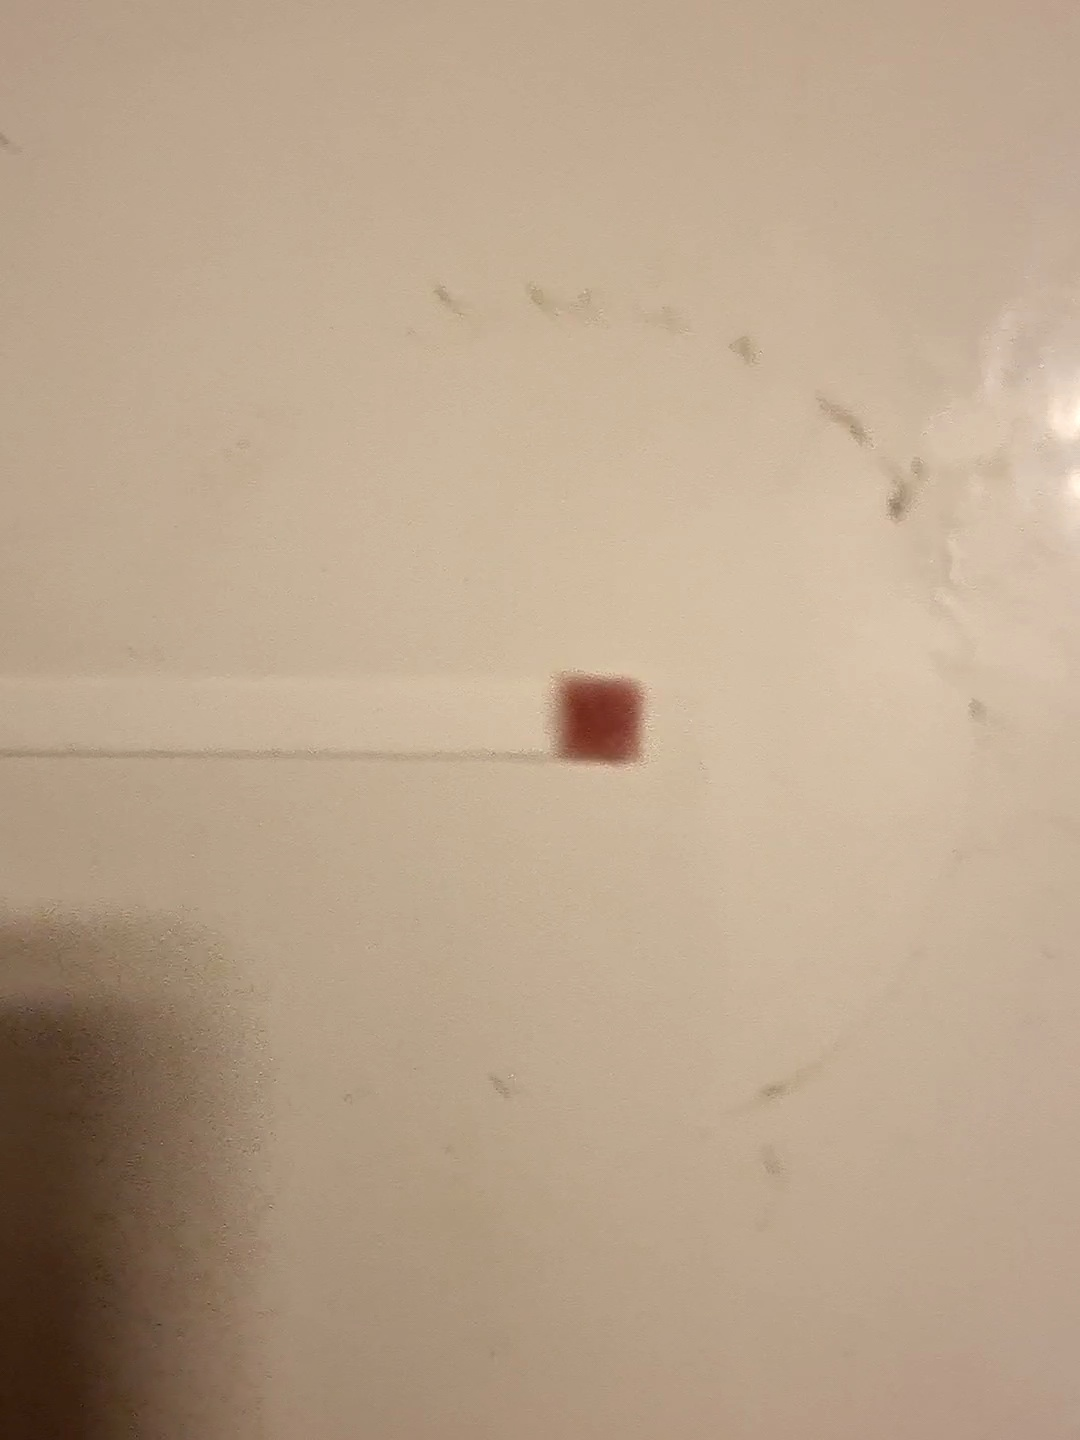keto-tip: (547, 666, 649, 770)
